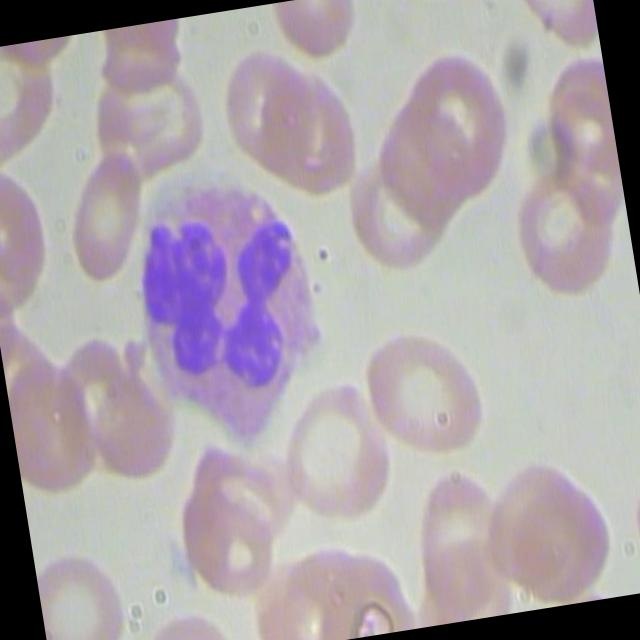RBC: (349, 306, 498, 475), (262, 362, 395, 542), (396, 38, 528, 194), (509, 148, 627, 303), (468, 446, 592, 593), (156, 474, 282, 604), (209, 35, 318, 174), (180, 429, 296, 553), (263, 61, 372, 191), (56, 146, 154, 284), (32, 532, 147, 640)
WBC: (106, 152, 353, 478)
